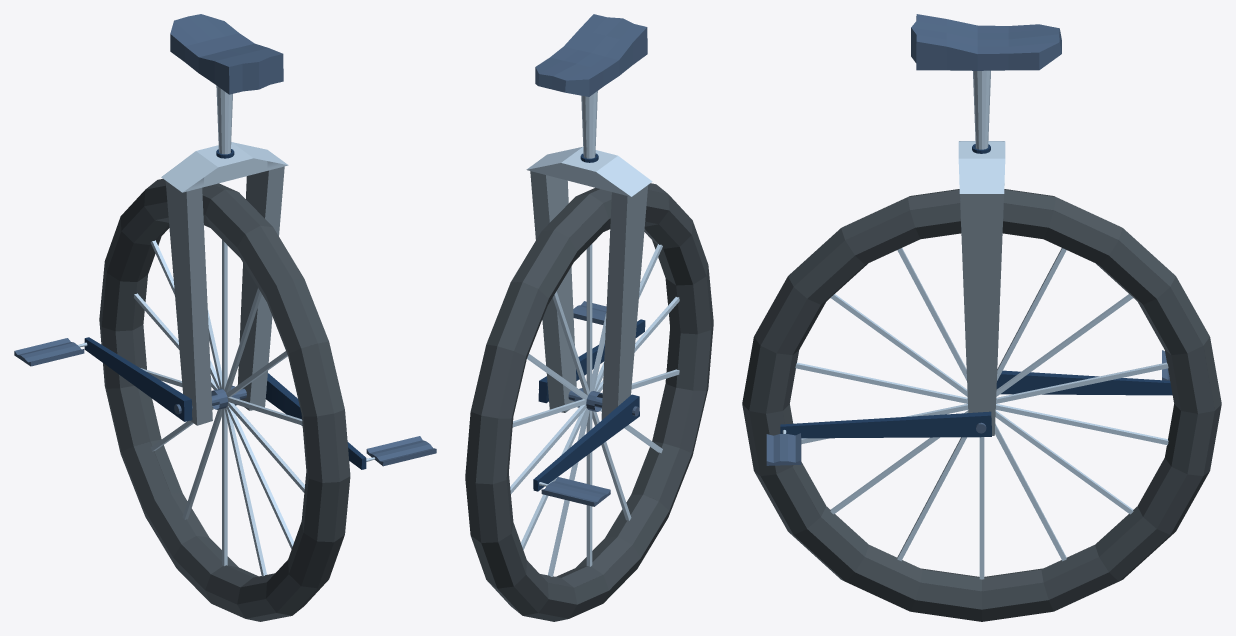
File: unicycle.fbx
3 renders of one model, left to right at view 1: azimuth 30°, elevation 25°; view 2: azimuth 150°, elevation 25°; view 3: azimuth 270°, elevation 25°, orthographic. The views are drawn at different scales.
Parts seen in each view (by area): view 1: unicycleWheel, unicycleBody, pedalArmL, PedalR, pedalArmR, PedalL; view 2: unicycleWheel, unicycleBody, pedalArmL, PedalL, pedalArmR, PedalR; view 3: unicycleWheel, unicycleBody, pedalArmR, pedalArmL, PedalR.
Boxes of the visible parts, x1,y1,x2,y2 form: unicycleWheel: (99, 179, 350, 621); unicycleBody: (161, 14, 288, 425); pedalArmL: (78, 337, 192, 421); PedalR: (366, 436, 436, 466); pedalArmR: (265, 373, 375, 469); PedalL: (14, 338, 84, 366); unicycleWheel: (465, 183, 713, 621); unicycleBody: (526, 14, 652, 419); pedalArmL: (533, 394, 639, 491); PedalL: (541, 477, 610, 506); pedalArmR: (538, 319, 645, 403); PedalR: (573, 301, 606, 324); unicycleWheel: (742, 189, 1221, 621); unicycleBody: (911, 14, 1061, 435); pedalArmR: (780, 411, 991, 438); pedalArmL: (996, 370, 1172, 395); PedalR: (766, 433, 801, 465).
Size of the model in its own units: 108 by 270 by 198.
